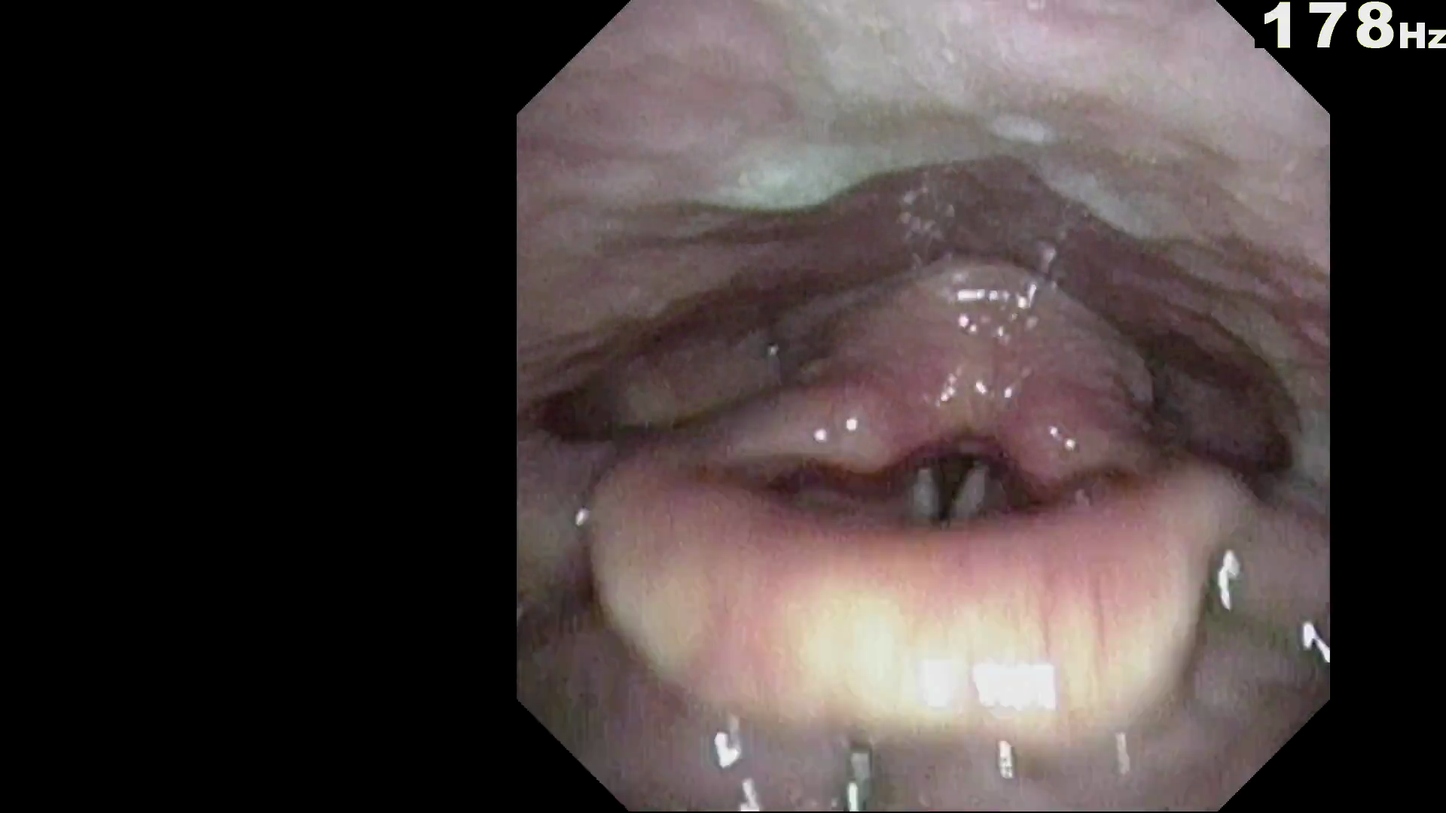epiglottis: (649, 484, 1193, 675)
trachea: (888, 440, 1042, 523)
